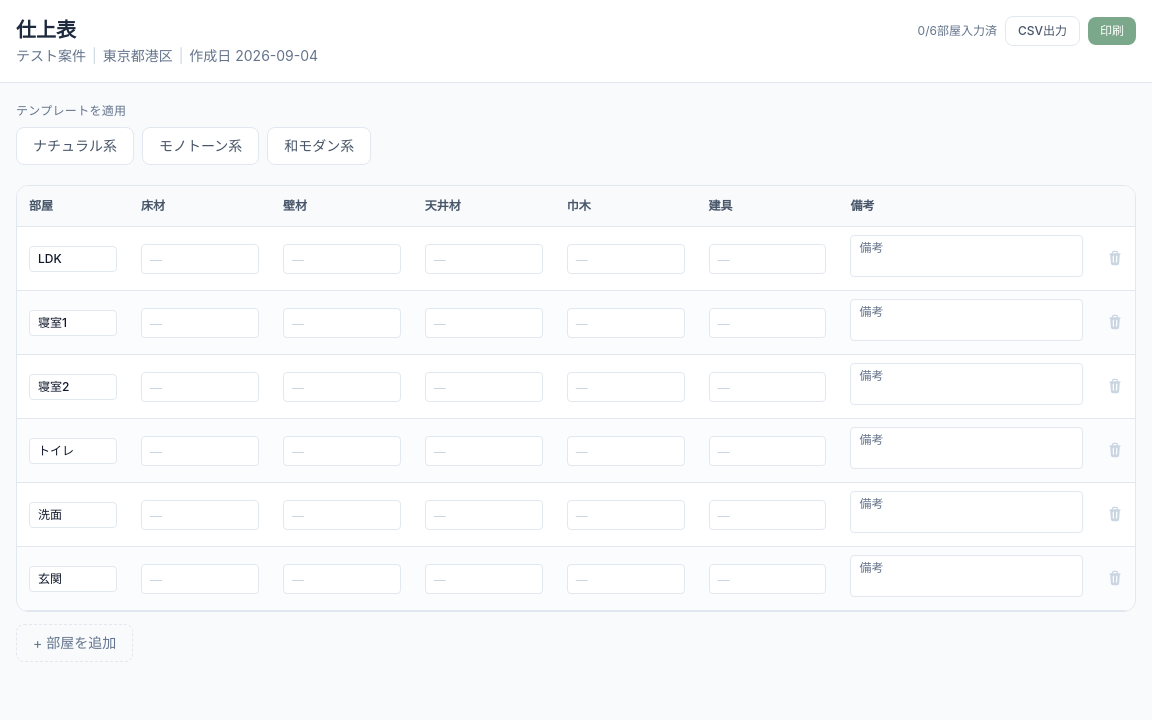
Scenario: FinishingSchedulePage — 行追加/削除 › 削除ボタンで行が1件減る
Click the button with test id "delete-row-": (1115, 258) [1103, 246, 1127, 270]
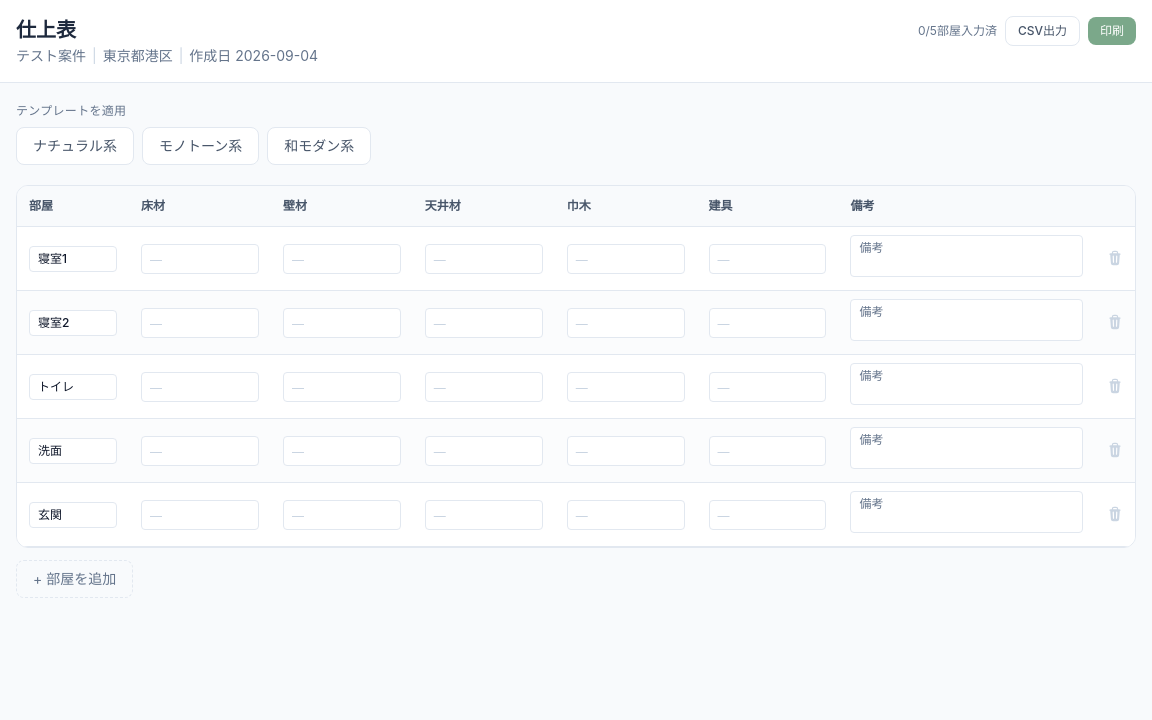
Expected: the number of rows with test id "finishing-row" is 5, [17, 226, 1135, 290]; [17, 290, 1135, 354]; [17, 354, 1135, 418]; [17, 418, 1135, 482]; [17, 482, 1135, 546]
